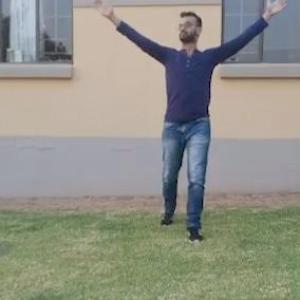takeoff: (73, 0, 299, 252)
